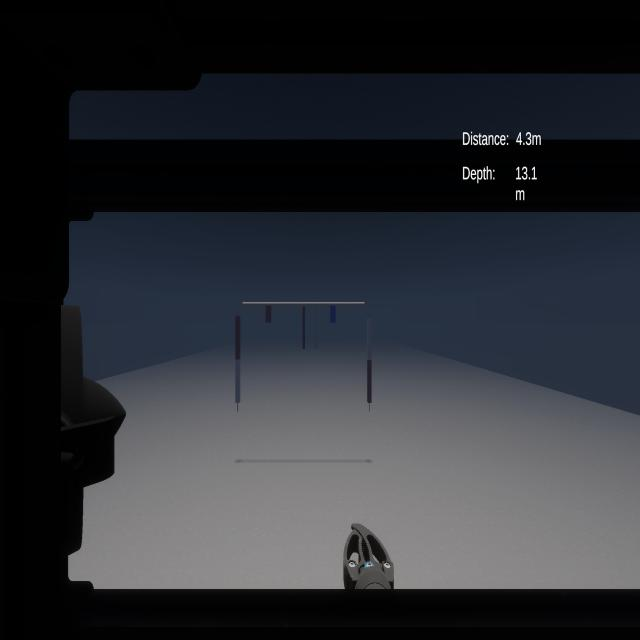Depth: (459, 160, 550, 206)
Distance: (459, 124, 549, 154)
Gate: (223, 286, 384, 423)
